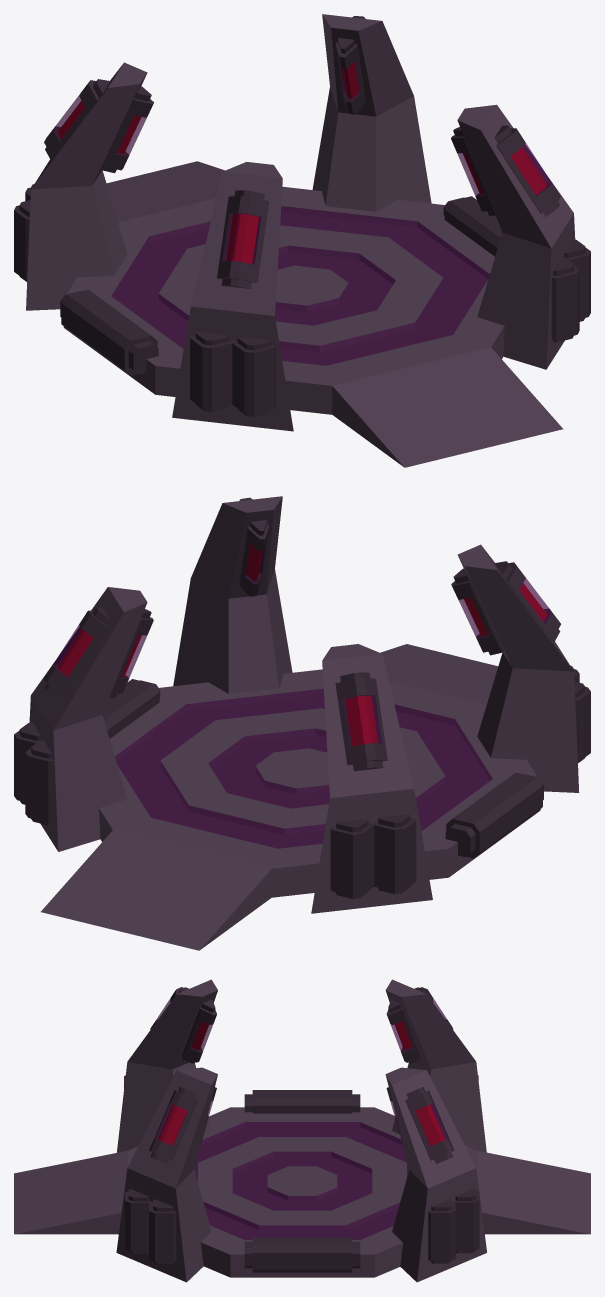
The model's file is Telepad_02.fbx.
The picture shows the model from 3 angles, top to bottom: view 1: azimuth 30°, elevation 25°; view 2: azimuth 150°, elevation 25°; view 3: azimuth 270°, elevation 25°; orthographic projection. The views are drawn at different scales.
Visible parts, largest first — view 1: pCylinder2; view 2: pCylinder2; view 3: pCylinder2.
Part boxes in pixels (<box>): pCylinder2: <box>14,14,590,467</box>; pCylinder2: <box>14,496,590,950</box>; pCylinder2: <box>14,979,590,1282</box>.
Bounding box in the file's own units: 19.02 × 9.53 × 28.97.
